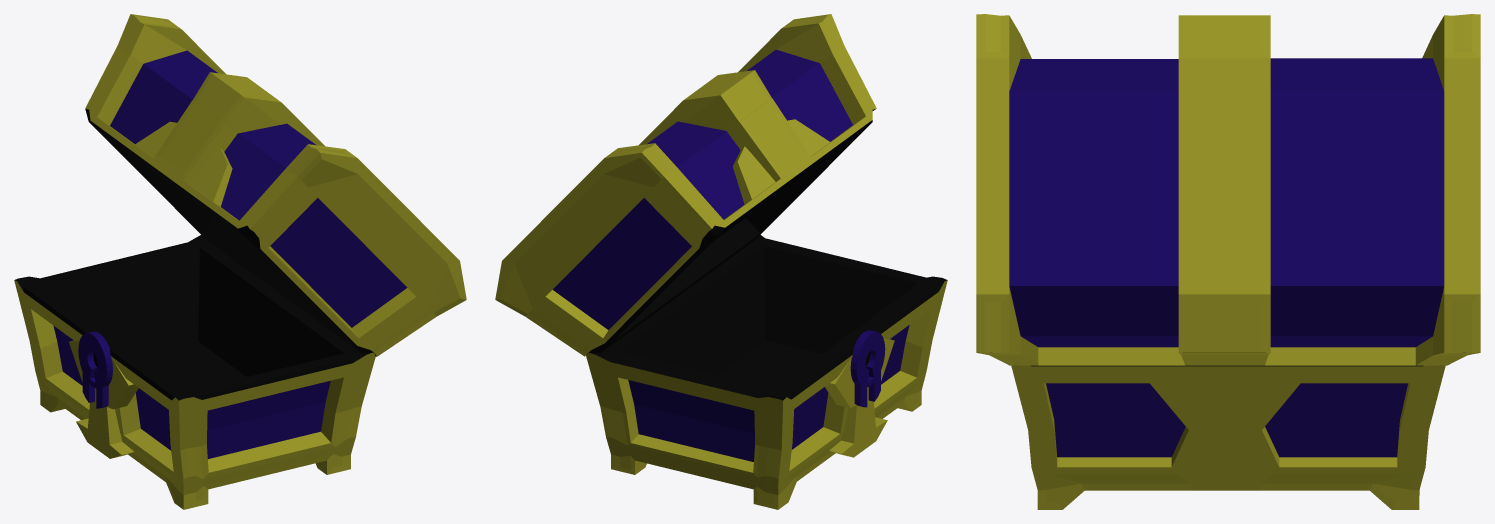
The model's file is CoffreOuvert.fbx.
3 renders of one model, left to right at view 1: azimuth 30°, elevation 25°; view 2: azimuth 150°, elevation 25°; view 3: azimuth 270°, elevation 25°, orthographic. The views are drawn at different scales.
Visible parts, largest first — view 1: Chest mode 1.001, Chest mode 1.002; view 2: Chest mode 1.001, Chest mode 1.002; view 3: Chest mode 1.002, Chest mode 1.001.
Boxes of the visible parts, left/top/right/bottom form: Chest mode 1.001: left=14, top=235, right=375, bottom=509; Chest mode 1.002: left=85, top=14, right=466, bottom=356; Chest mode 1.001: left=586, top=235, right=947, bottom=509; Chest mode 1.002: left=495, top=14, right=876, bottom=356; Chest mode 1.002: left=976, top=14, right=1480, bottom=365; Chest mode 1.001: left=1011, top=365, right=1445, bottom=509.
Size of the model in its own units: 397 by 468 by 464.
